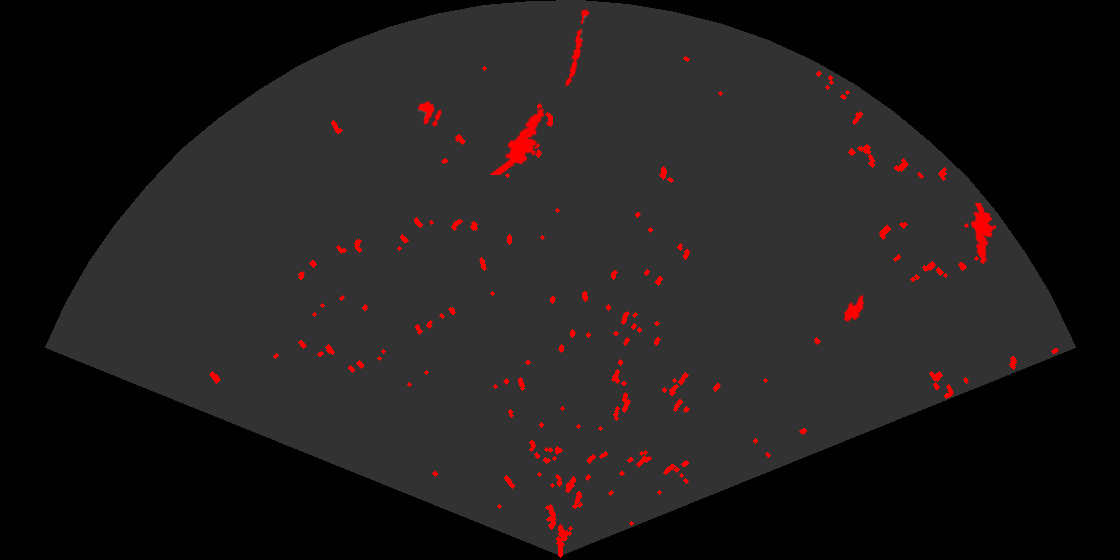AUV: (842, 293, 866, 324)
ball: (416, 100, 443, 128)
chain: (564, 7, 591, 89)
frogman: (490, 107, 546, 175), (969, 203, 998, 266)
